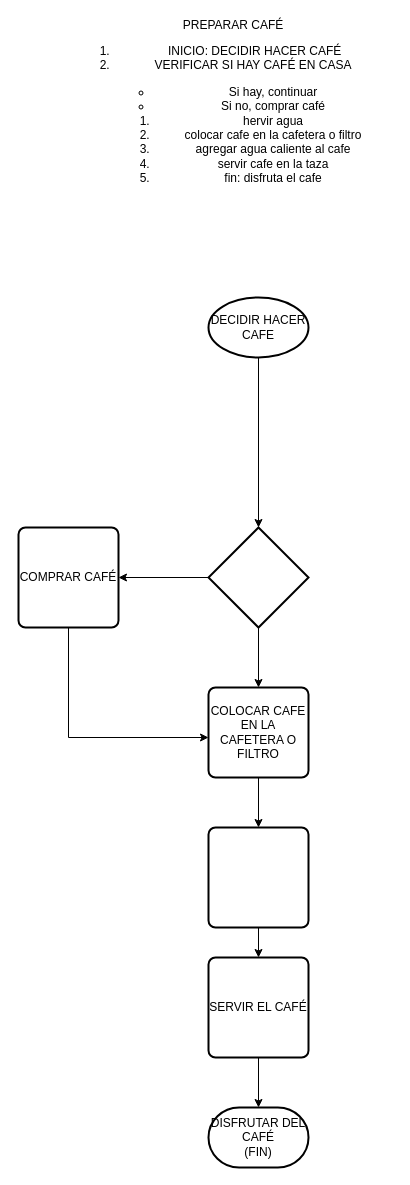
Image size: 410x1185. Some labels were removed from this diagram. The shapes that lost their labels are listed below. From the top down, each one's box as (x1, y1, x2, y2) in pixels, then its label:
(207, 526, 309, 628): VERIFICAR SI HAY CAFÉ
(207, 826, 309, 928): AGREGAR AGUA CALIENTE
